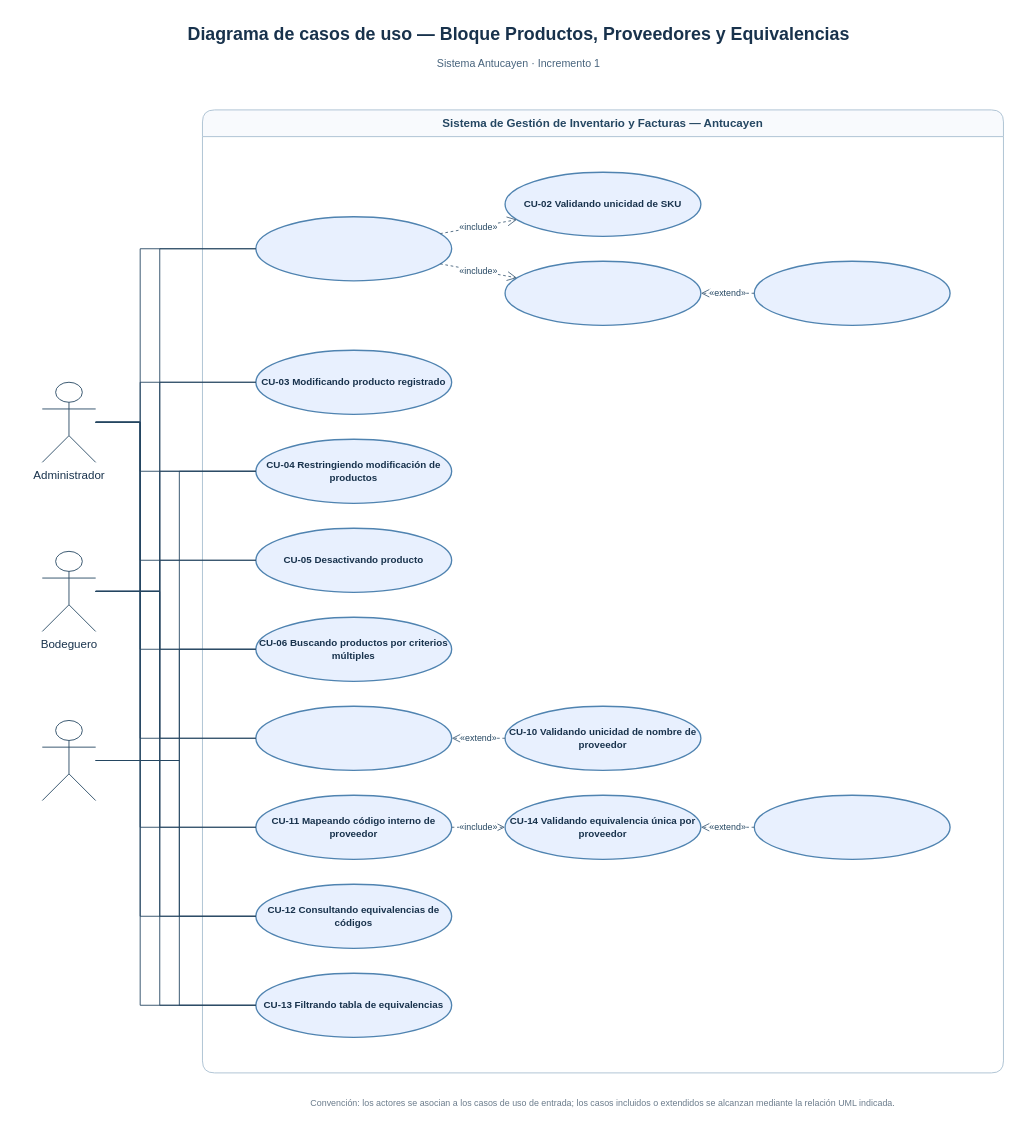
Image size: 1036x1136. Some labels were removed from this diagram. The box of each missing label's shape, as (x1, y1, x2, y2) in pixels:
Cajero: (41, 720, 96, 801)
CU-01 Registrando producto: (255, 216, 452, 281)
CU-07 Validando código de barras único: (504, 260, 701, 326)
CU-08 Controlando alerta de código de barras duplicado: (753, 260, 950, 326)
CU-09 Registrando proveedor: (255, 705, 452, 771)
CU-15 Controlando alerta de equivalencia duplicada: (753, 794, 950, 860)
